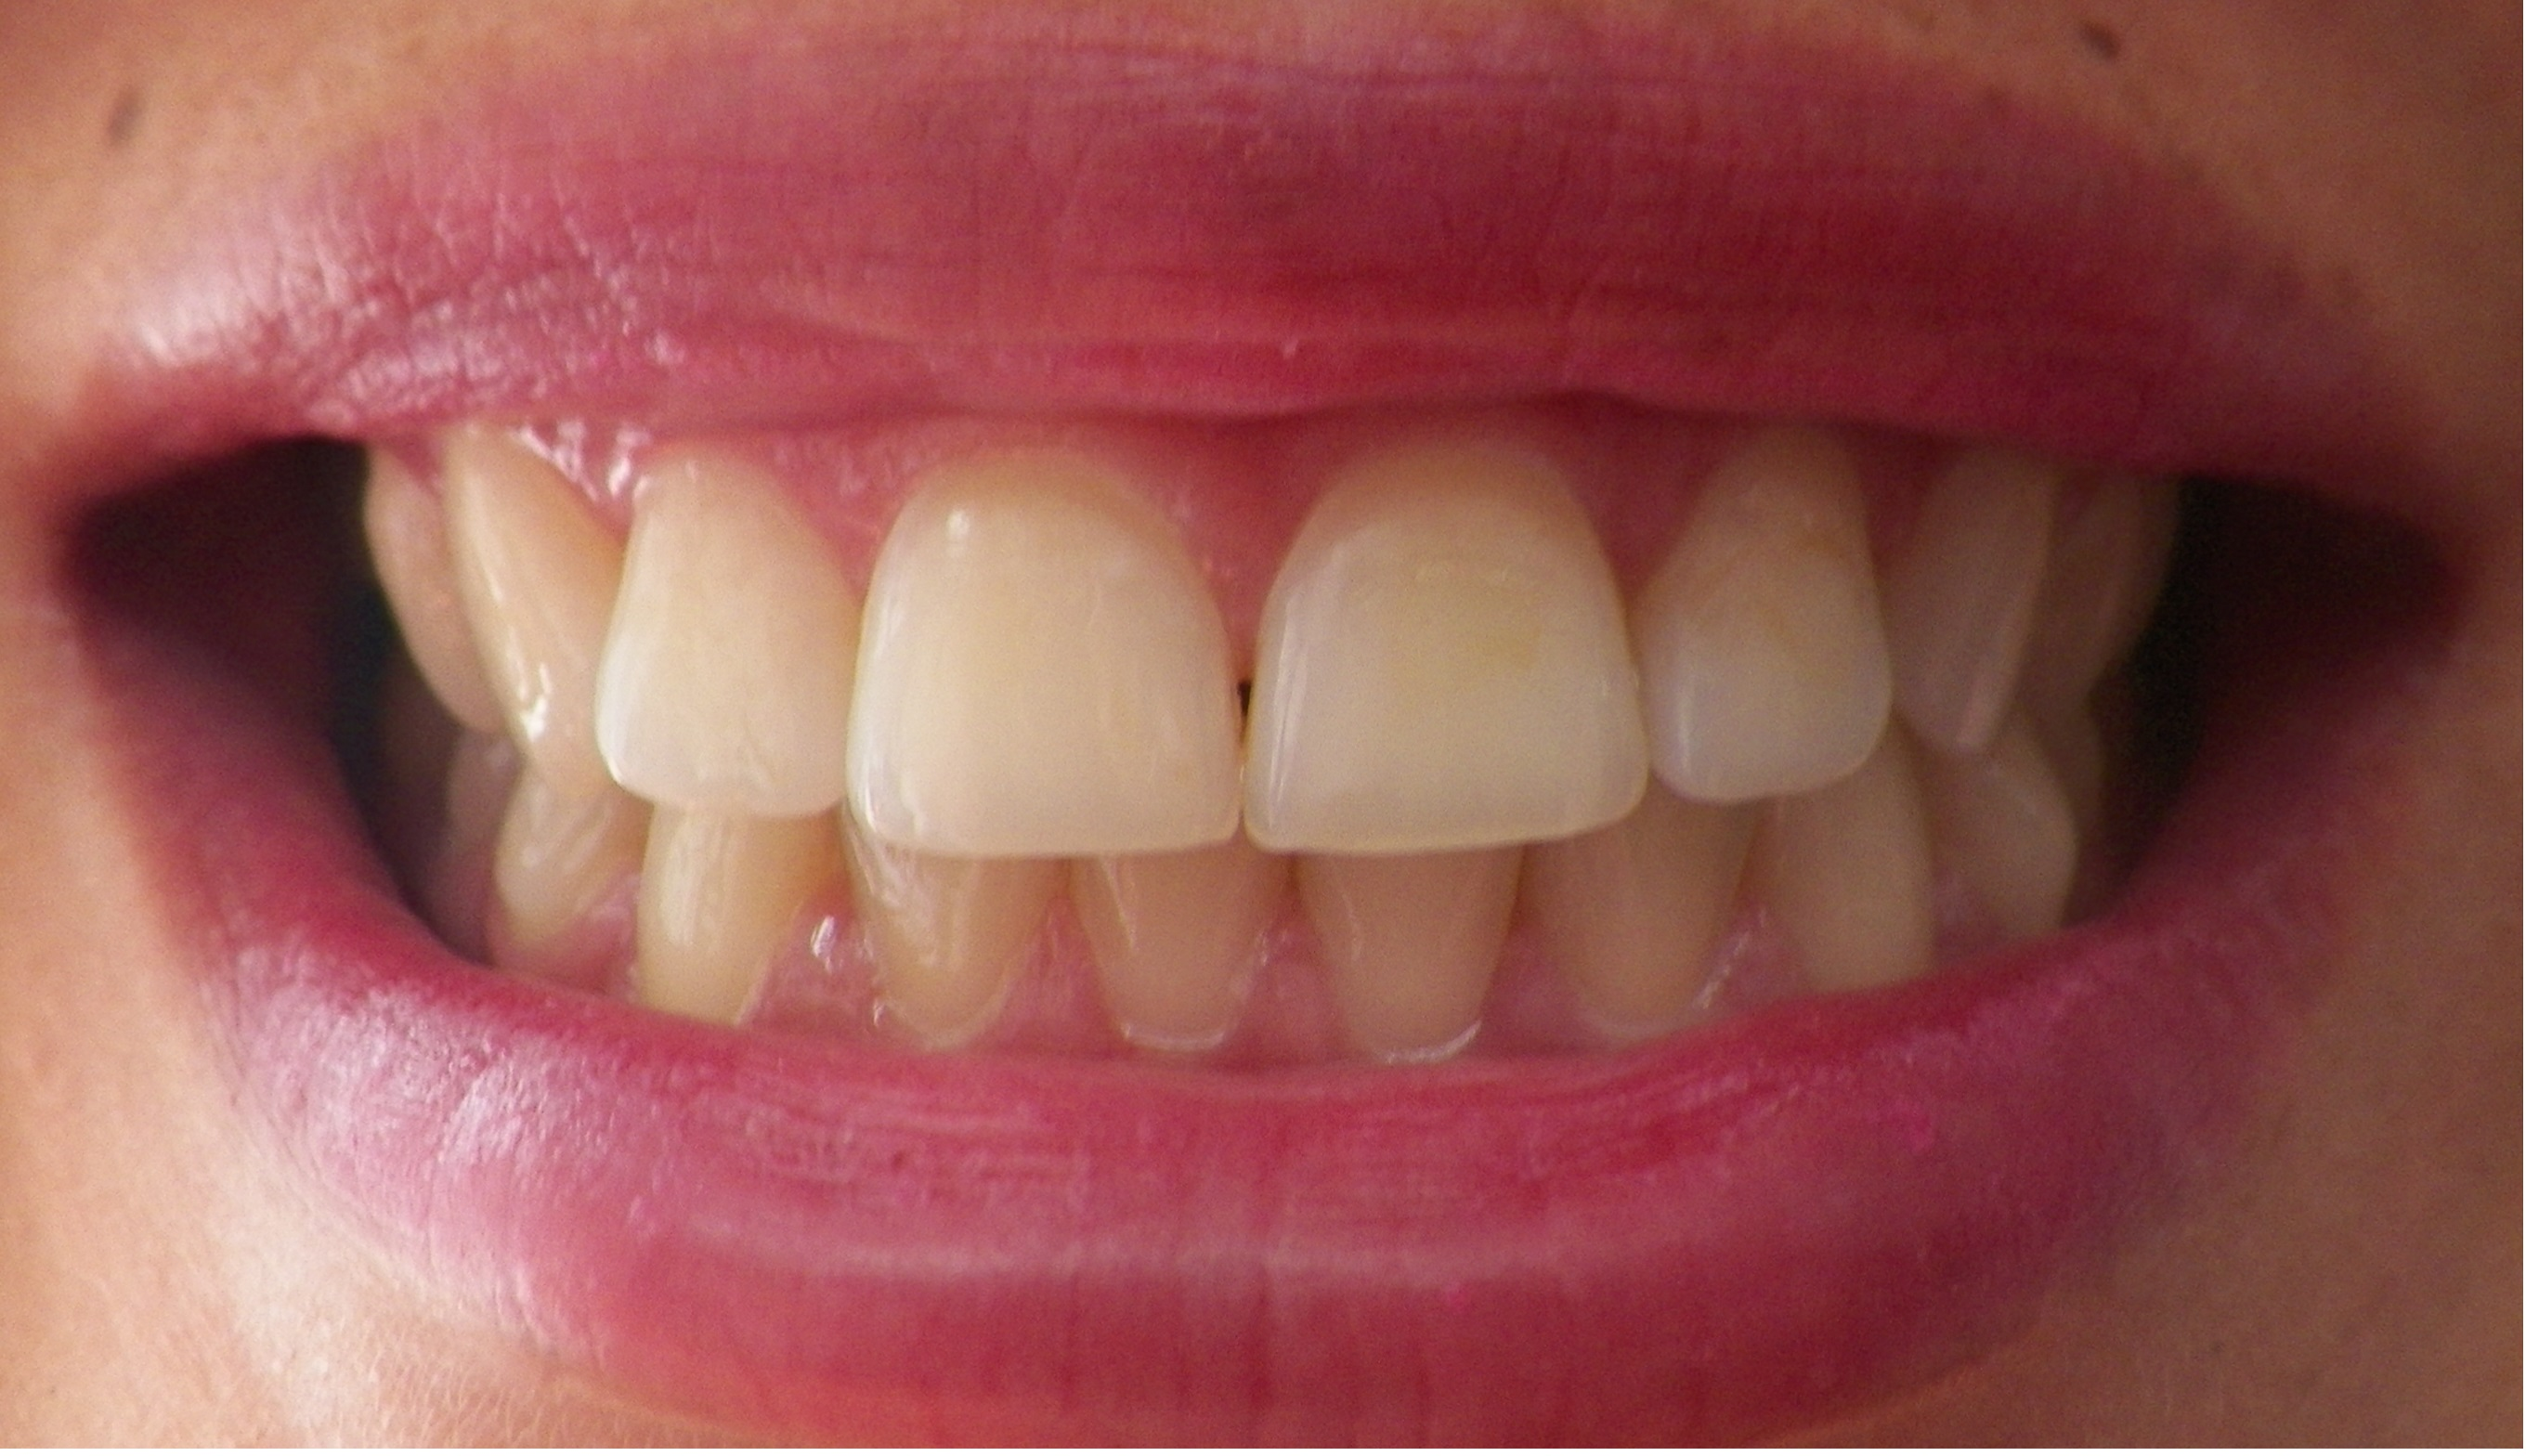boca: (337, 439, 2224, 1062)
